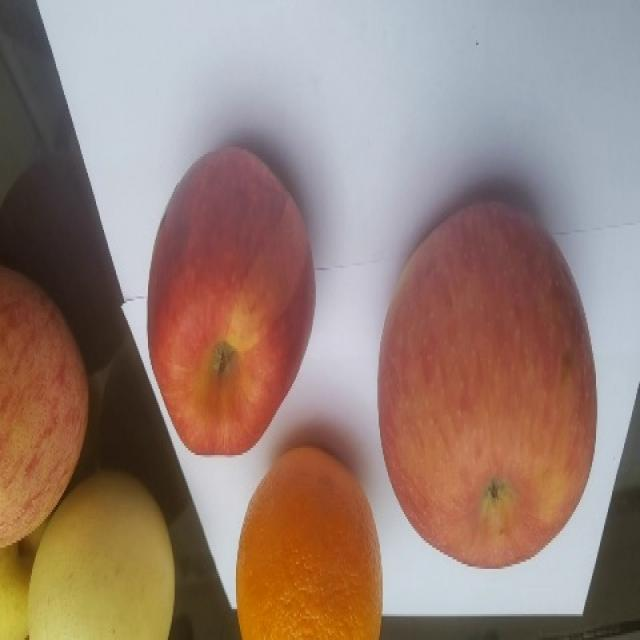Apple: (376, 199, 598, 569), (146, 144, 316, 455), (0, 265, 90, 549)
Orange: (235, 444, 383, 639)
